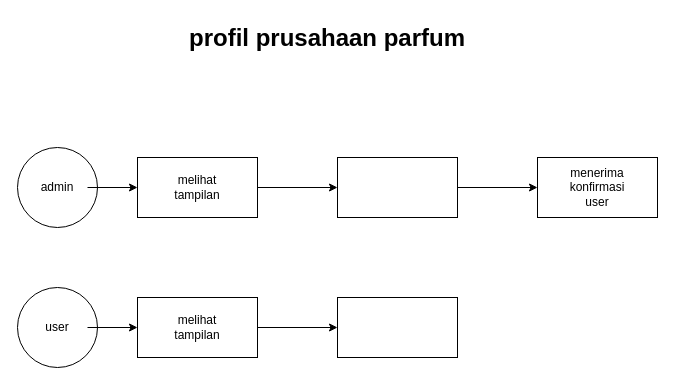
This 675x385 diagram has some shape labels left out. The shapes that lost their labels are listed below. From the top down, each one's centre as x and y in pixels, then its label:
At point (397, 187): "update data".
At point (397, 327): "menghubungi admin".
